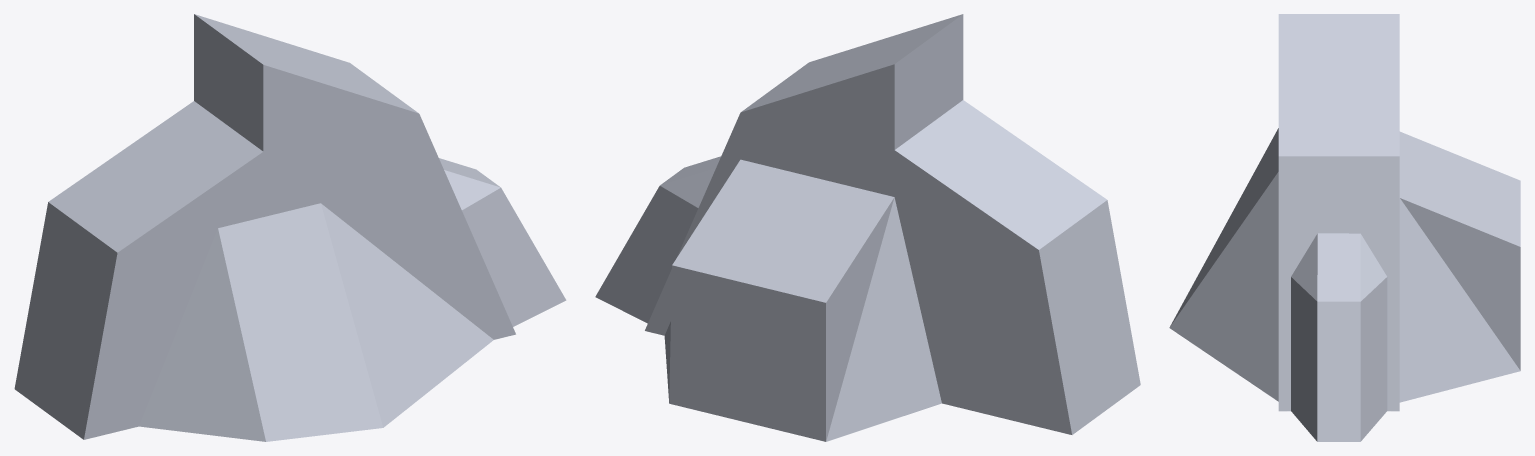
Rendered from Roca_Picar_Tipo2.fbx.
3 views of the same model, side by side, from view 1: azimuth 30°, elevation 25°; view 2: azimuth 150°, elevation 25°; view 3: azimuth 270°, elevation 25° (orthographic). The views are drawn at different scales.
Parts seen in each view (by area): view 1: Cubo.018; view 2: Cubo.018; view 3: Cubo.018.
Boxes of the visible parts, x1,y1,x2,y2 form: Cubo.018: (14, 14, 566, 441); Cubo.018: (595, 14, 1140, 441); Cubo.018: (1169, 14, 1520, 441).
Bounding box in the file's own units: 140 × 87.89 × 96.69.
1 material, 1 textured.
